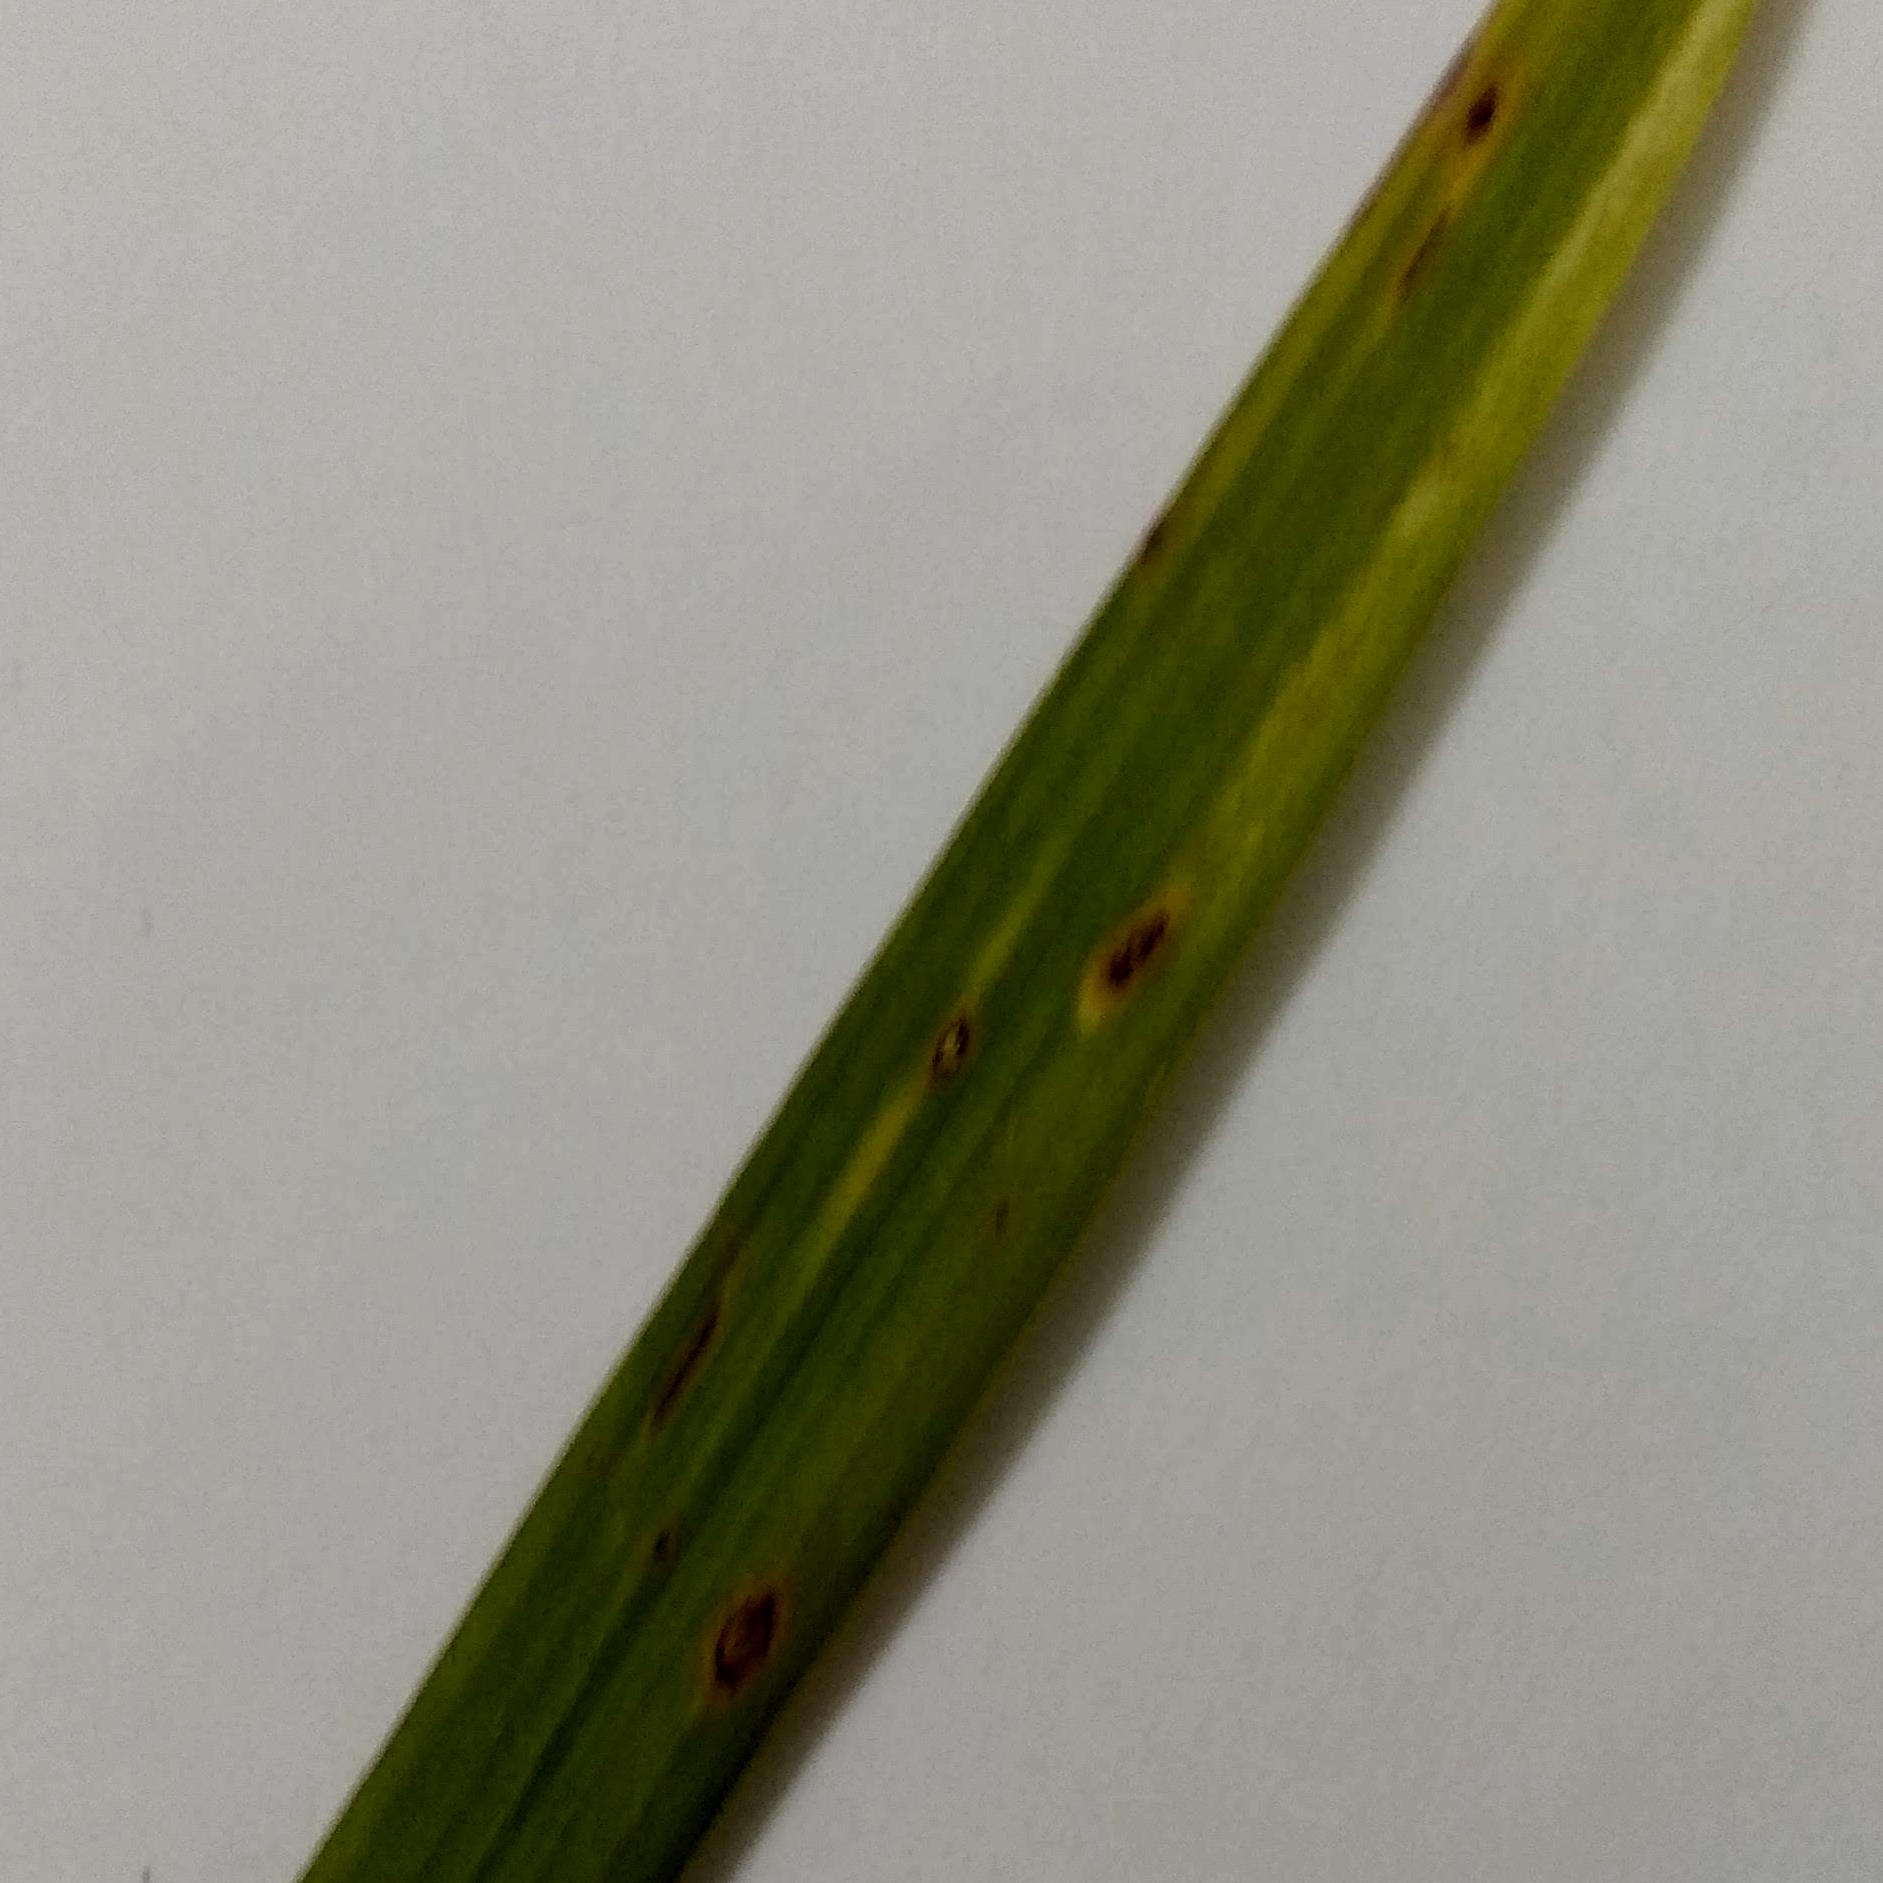1 RiceBlast: (683, 1530, 802, 1721), (1071, 865, 1179, 1040), (1423, 67, 1511, 152)
